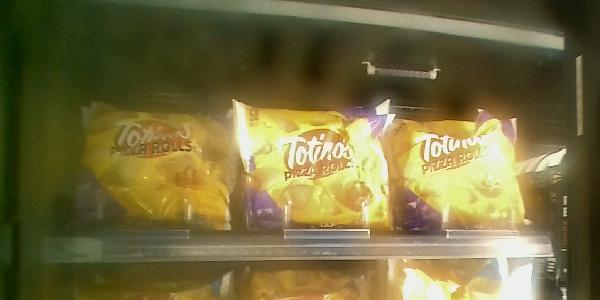icecream: (68, 84, 236, 245), (381, 98, 544, 249), (229, 105, 386, 245)
